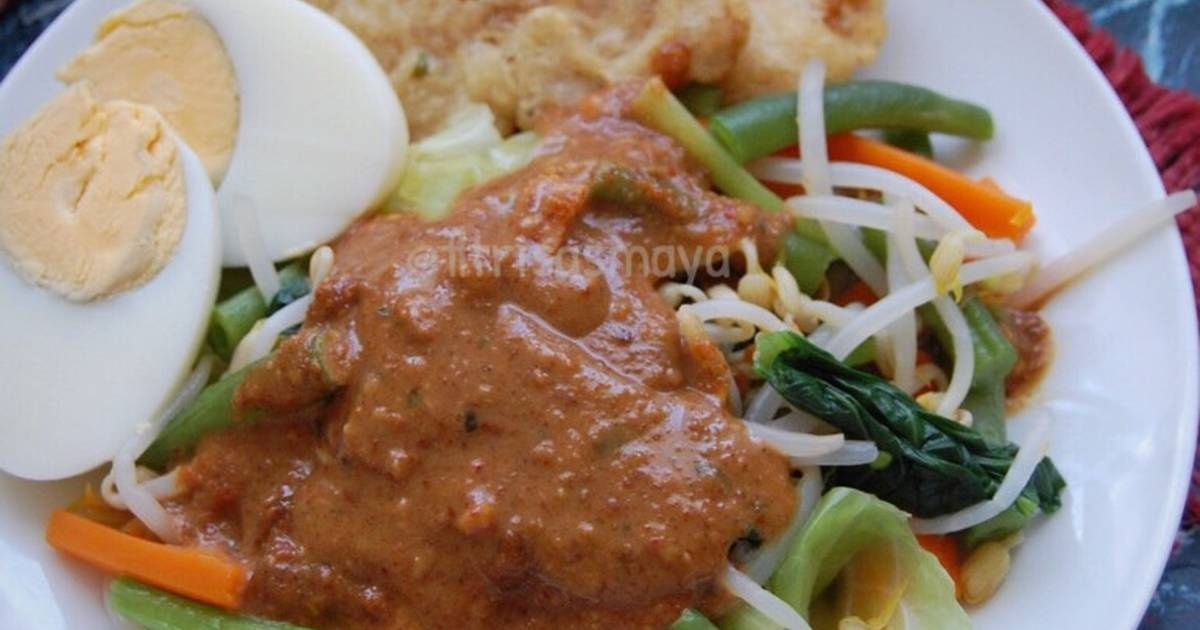pecel: (172, 12, 1110, 622)
